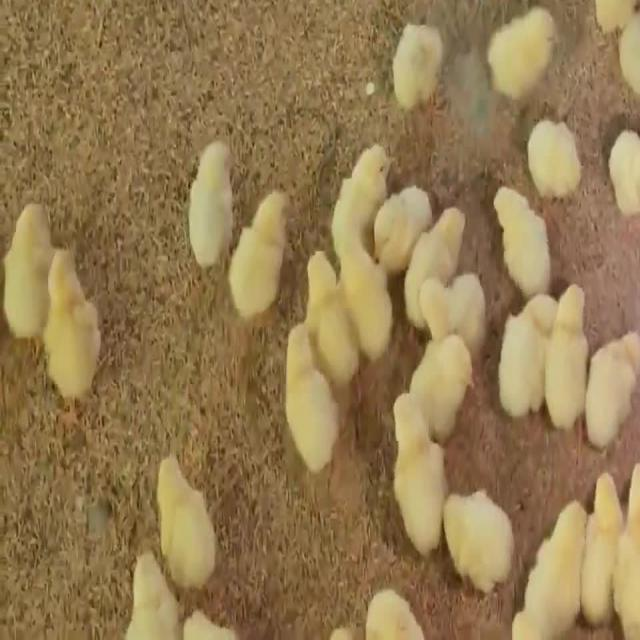poussin: (219, 180, 296, 324), (382, 373, 444, 544), (43, 240, 101, 400), (480, 0, 563, 110), (153, 444, 219, 582), (481, 167, 556, 288), (522, 496, 586, 636), (436, 474, 516, 584), (492, 276, 555, 413), (332, 210, 392, 348), (541, 270, 594, 423), (308, 248, 360, 396), (574, 459, 626, 607), (380, 2, 451, 106), (408, 327, 477, 434), (290, 324, 340, 470), (0, 202, 52, 342), (401, 196, 461, 316), (184, 134, 234, 272), (583, 315, 640, 434), (114, 540, 180, 640), (328, 136, 396, 233), (357, 572, 438, 640), (518, 108, 588, 184), (374, 164, 432, 251), (423, 261, 482, 331), (603, 112, 640, 210)
